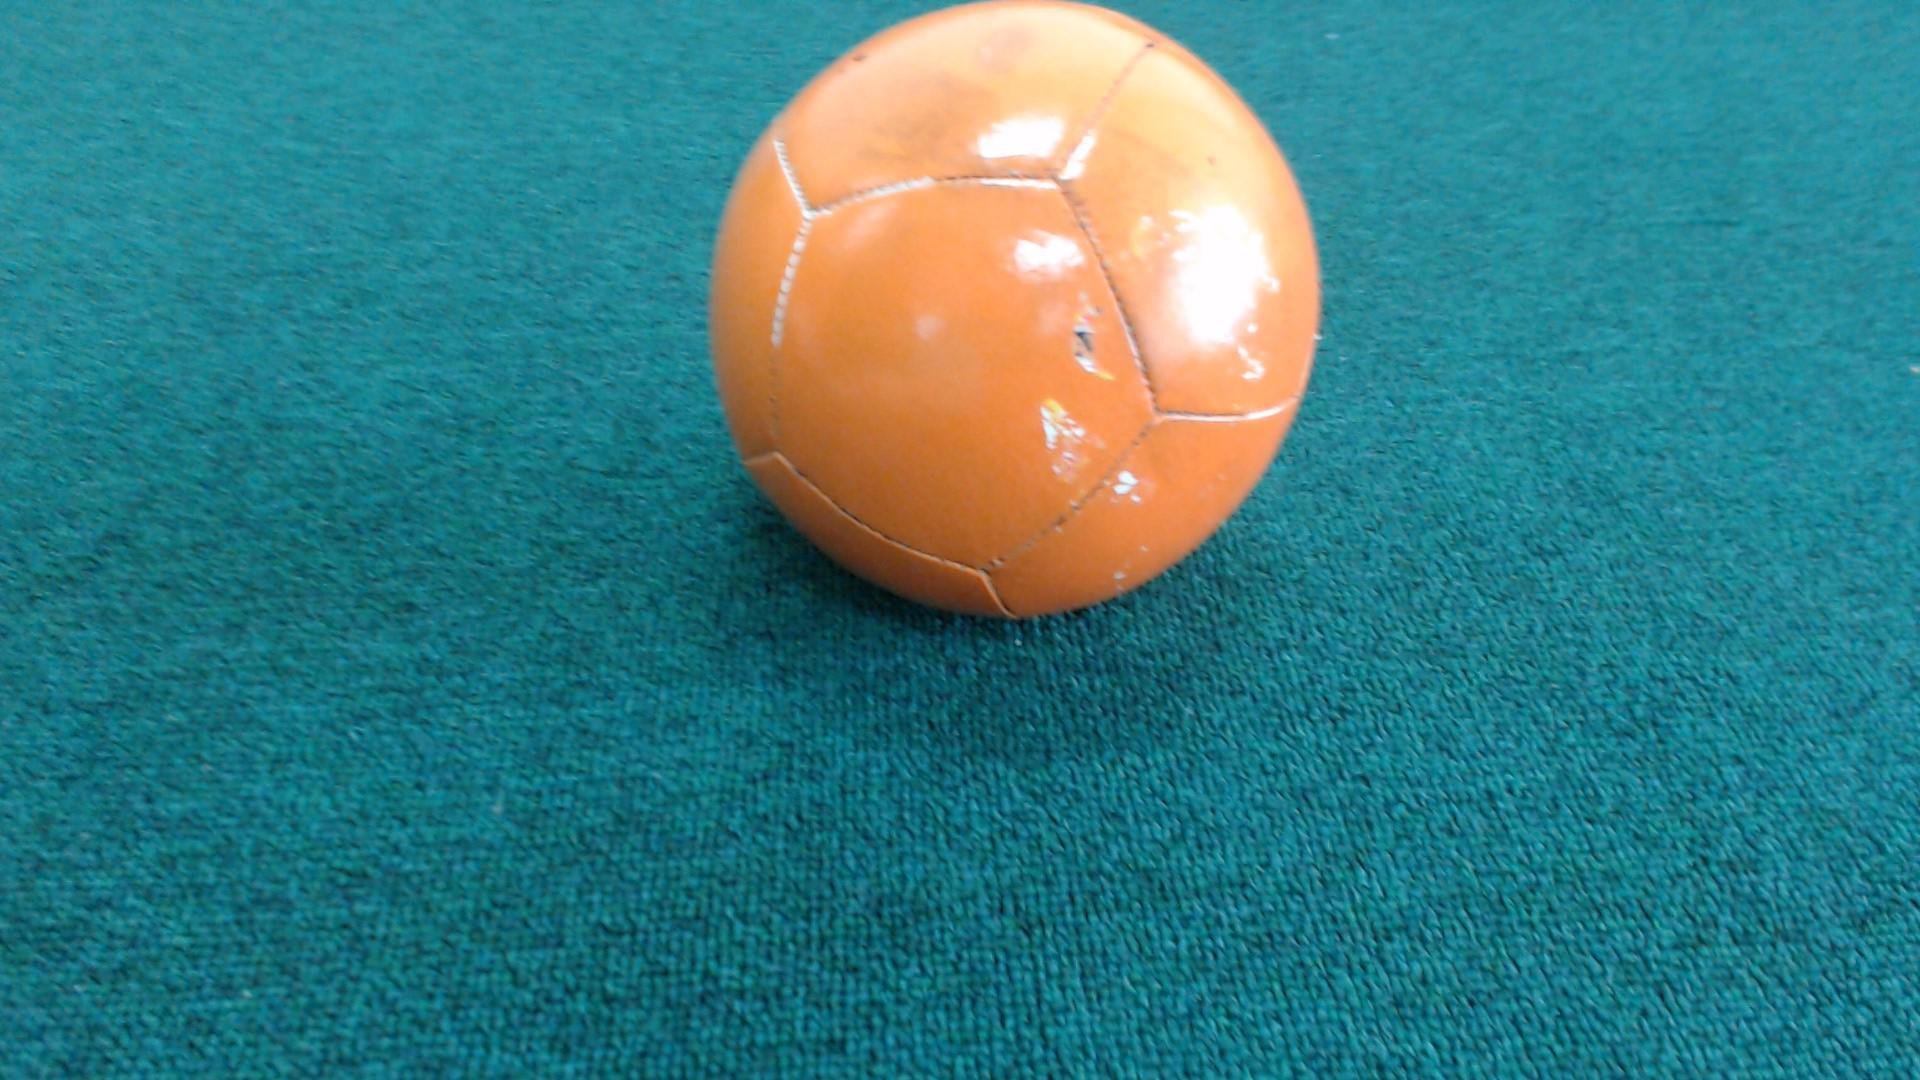bola: (702, 0, 1365, 658)
